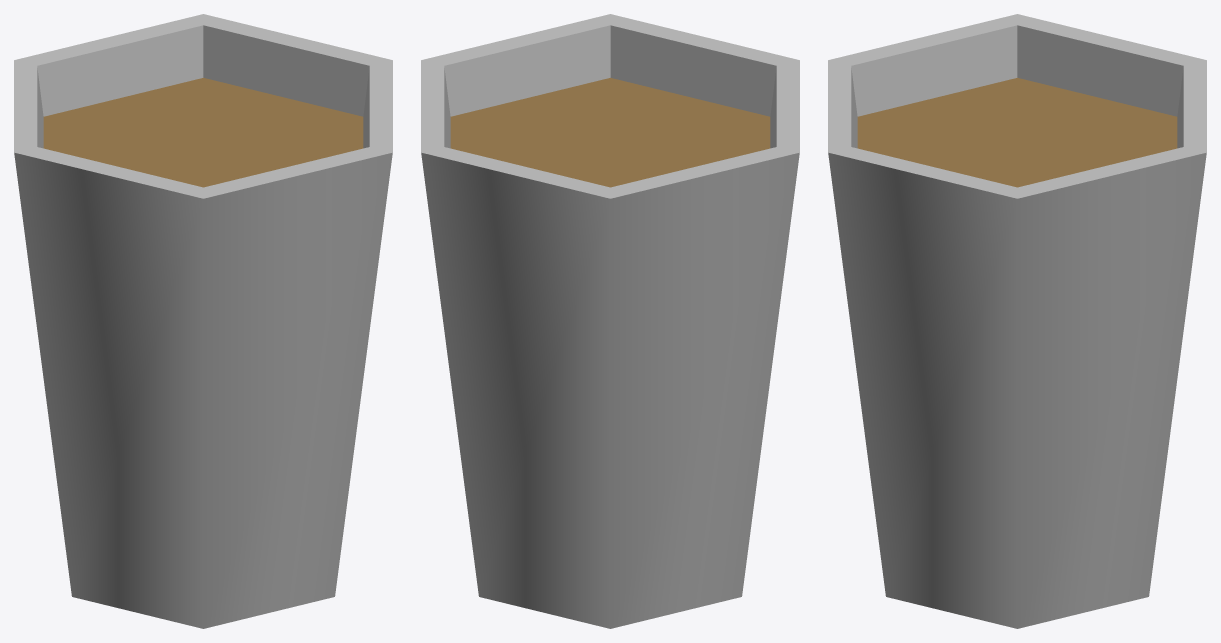
The model's file is Itr_Obj_Flowerpot2_Base_01.FBX.
The picture shows the model from 3 angles, left to right: view 1: azimuth 30°, elevation 25°; view 2: azimuth 150°, elevation 25°; view 3: azimuth 270°, elevation 25°; orthographic projection.
Parts seen in each view (by area): view 1: Itr_Obj_Flowerpot2_Base_01; view 2: Itr_Obj_Flowerpot2_Base_01; view 3: Itr_Obj_Flowerpot2_Base_01.
Boxes of the visible parts, x1=… form: Itr_Obj_Flowerpot2_Base_01: x1=14, y1=14, x2=392, y2=628; Itr_Obj_Flowerpot2_Base_01: x1=421, y1=14, x2=799, y2=628; Itr_Obj_Flowerpot2_Base_01: x1=828, y1=14, x2=1206, y2=628.
Bounding box in the file's own units: 24 × 27.76 × 20.78.
